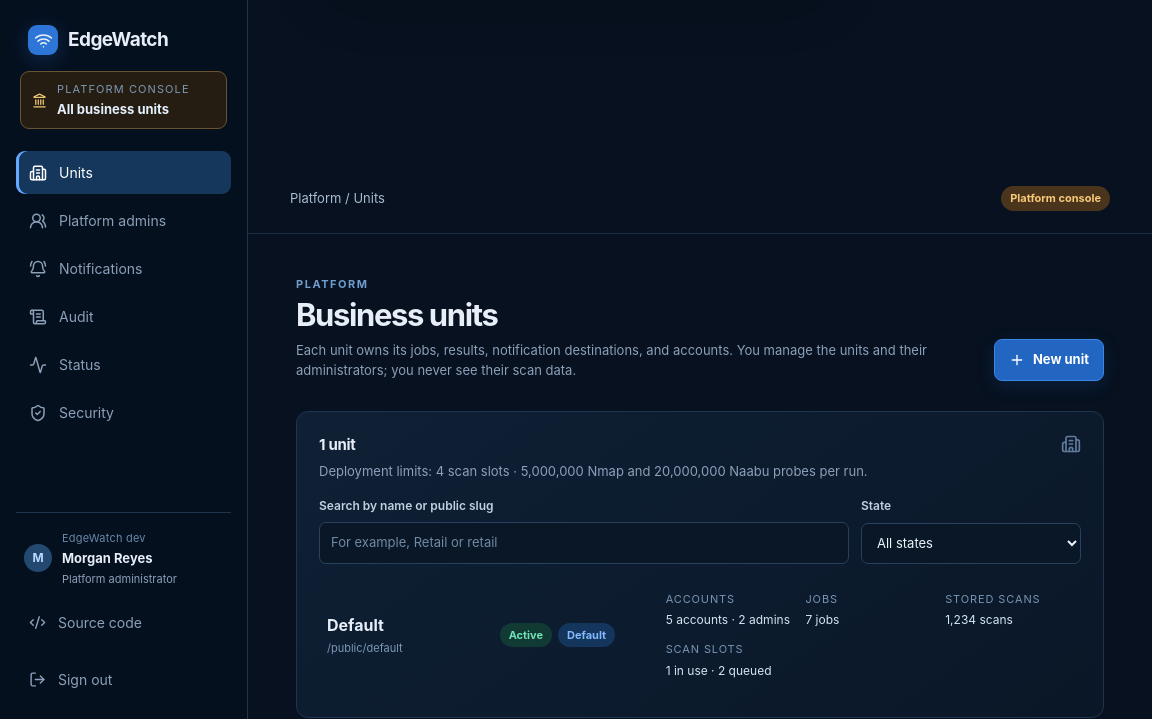
Scenario: business units in the console › gives a platform administrator without TOTP the enrolment, not the new unit, once it creates the second unit
(page scrolled)
Expected: the link "Default" is shown, [319,576,1081,695]
Click the button "New unit": (1049, 360) [994,339,1104,380]
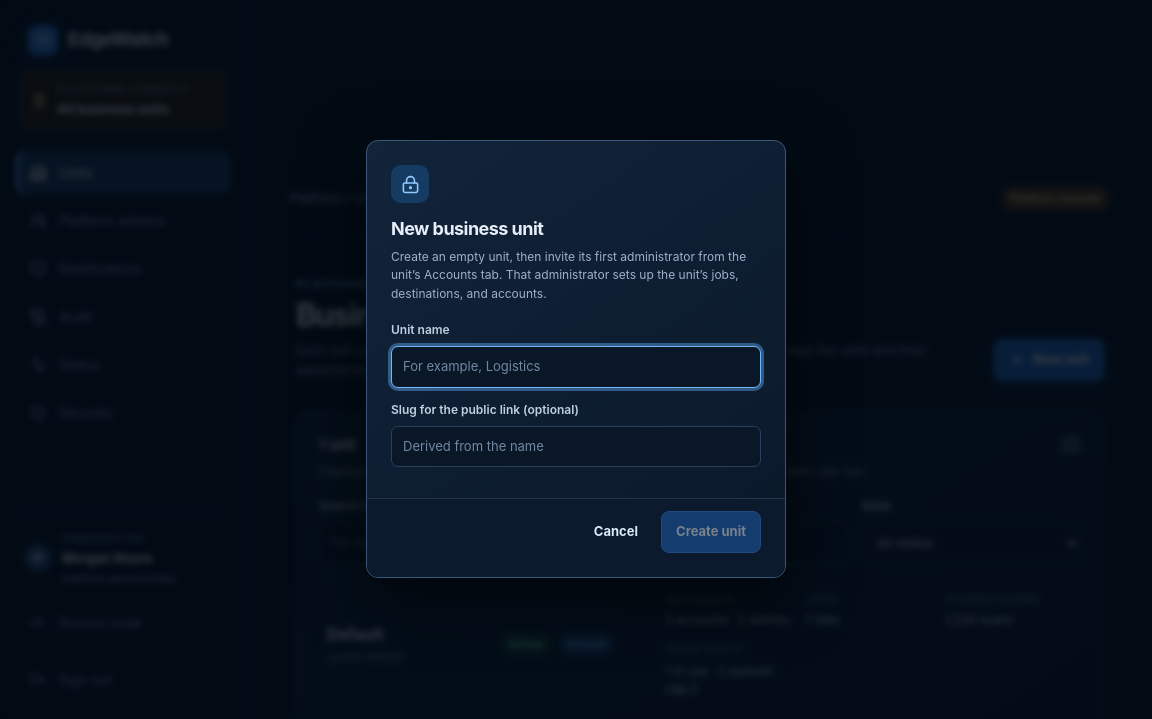
In the field labelled "Unit name": (576, 367) [391,346,761,388], type "Logistics"
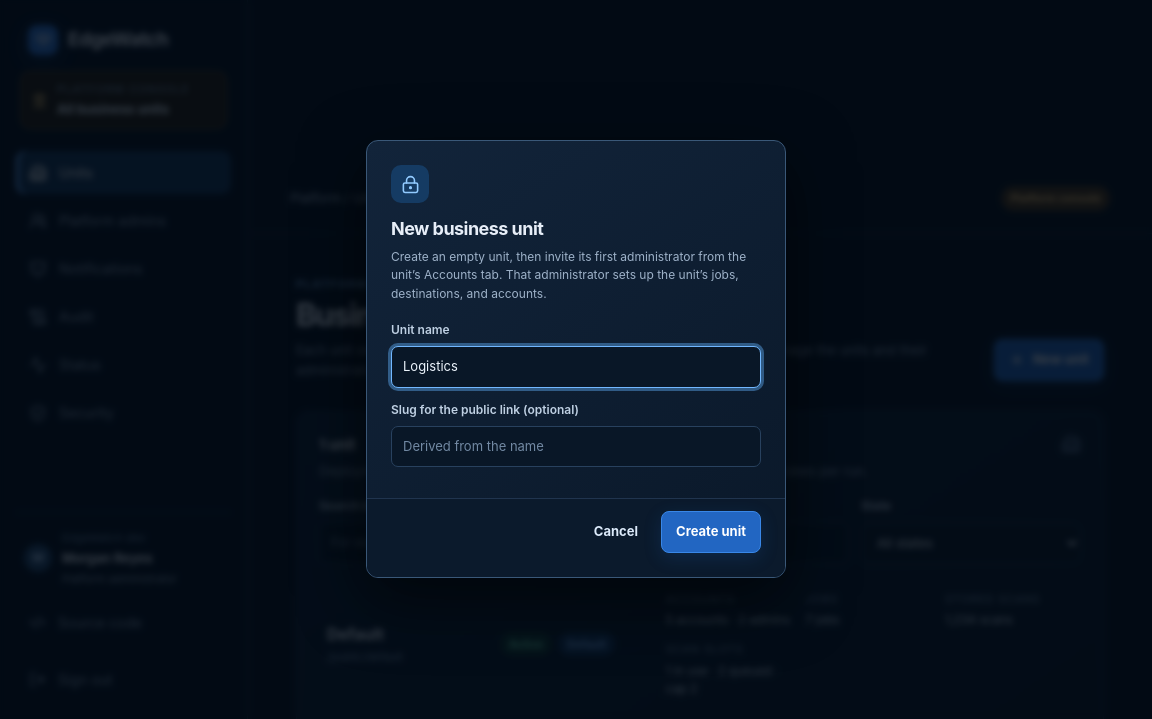
Submit the form labelled "Unit name", box [391,321,761,553]
(page scrolled)
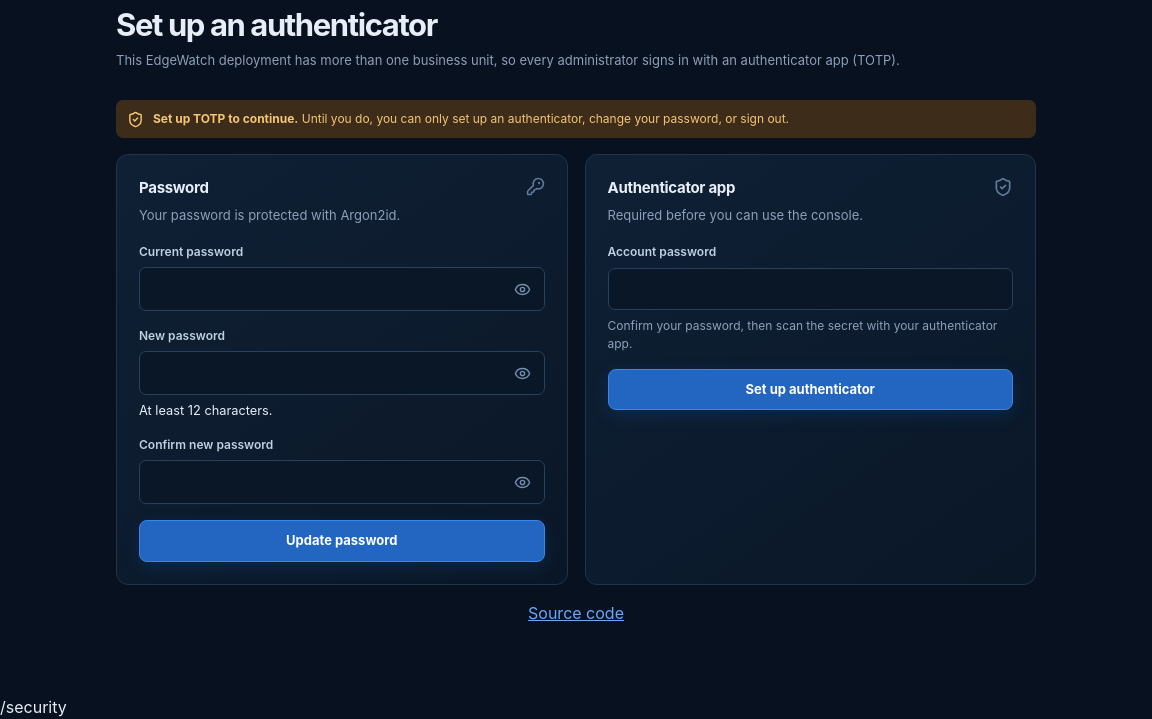
Expected: the heading "Set up an authenticator" is shown, [116,6,437,42]
Expected: the text with test id "current-path" reads "/security", [0,697,67,717]
Expected: the dialog is gone
